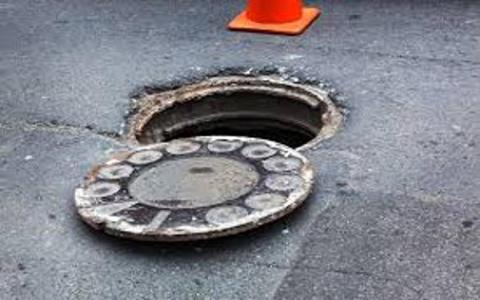open manhole: (118, 61, 338, 169)
